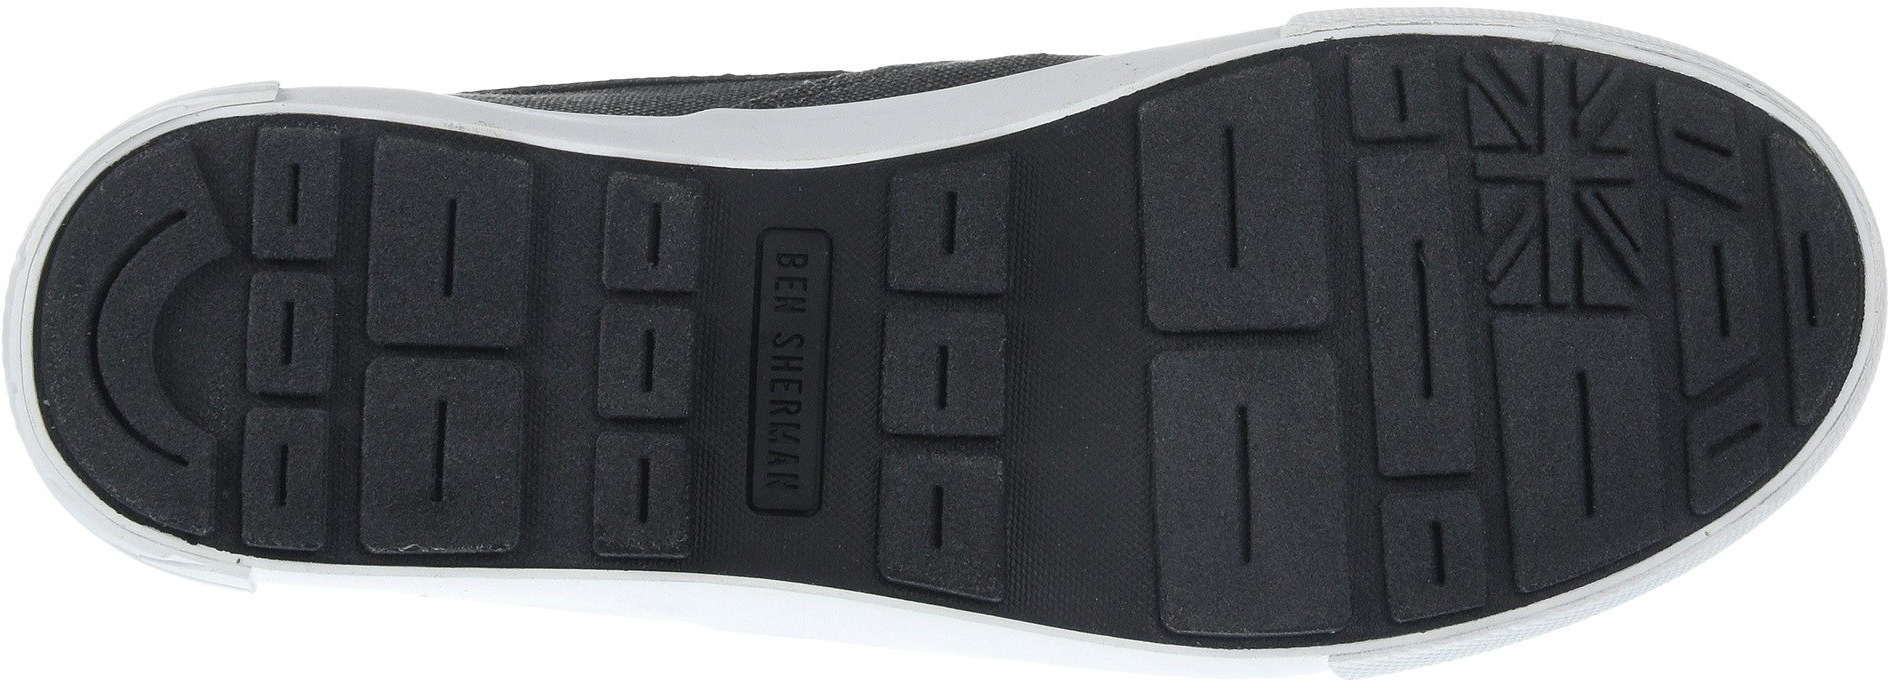line: (629, 188, 670, 527), (425, 178, 460, 508), (1563, 361, 1621, 525), (1220, 392, 1270, 571), (1707, 235, 1750, 354), (1213, 120, 1243, 280)
other: (1011, 106, 1152, 633)
quad: (1344, 45, 1499, 637), (348, 139, 542, 565), (865, 139, 1022, 602), (219, 123, 356, 565), (1138, 54, 1342, 331), (569, 164, 709, 561), (749, 222, 849, 518), (1656, 86, 1744, 207)
